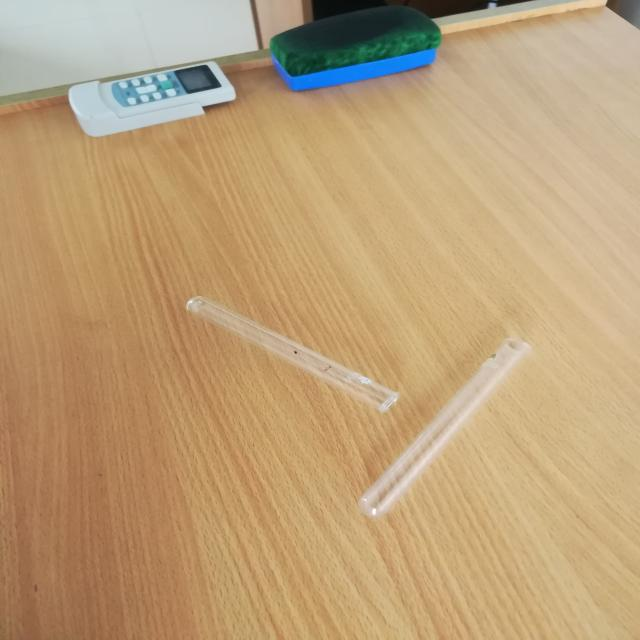Test_Tube: (334, 320, 566, 538), (143, 281, 420, 417)
